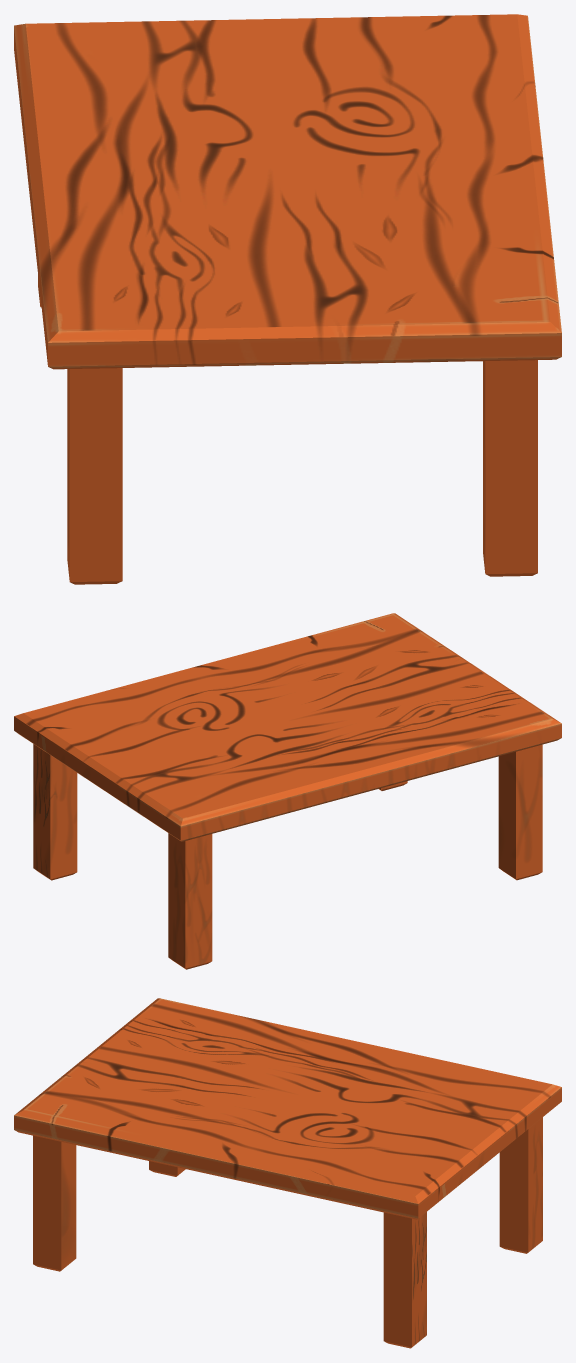
Rendered from Table.fbx.
The picture shows the model from 3 angles, top to bottom: view 1: azimuth 30°, elevation 25°; view 2: azimuth 150°, elevation 25°; view 3: azimuth 270°, elevation 25°; orthographic projection. The views are drawn at different scales.
Visible parts, largest first — view 1: Table; view 2: Table; view 3: Table.
Part boxes in pixels (bbox=[...]): Table: bbox=[14, 14, 561, 584]; Table: bbox=[14, 613, 561, 969]; Table: bbox=[14, 998, 561, 1348].
Bounding box in the file's own units: 6.45 × 2.31 × 7.27.
Materials: 1 (1 with a texture image).
